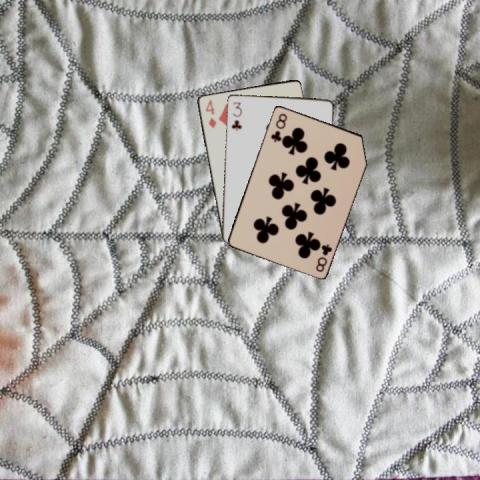3c: (229, 99, 243, 132)
4d: (203, 97, 217, 129)
8c: (268, 110, 288, 143), (313, 241, 333, 273)
